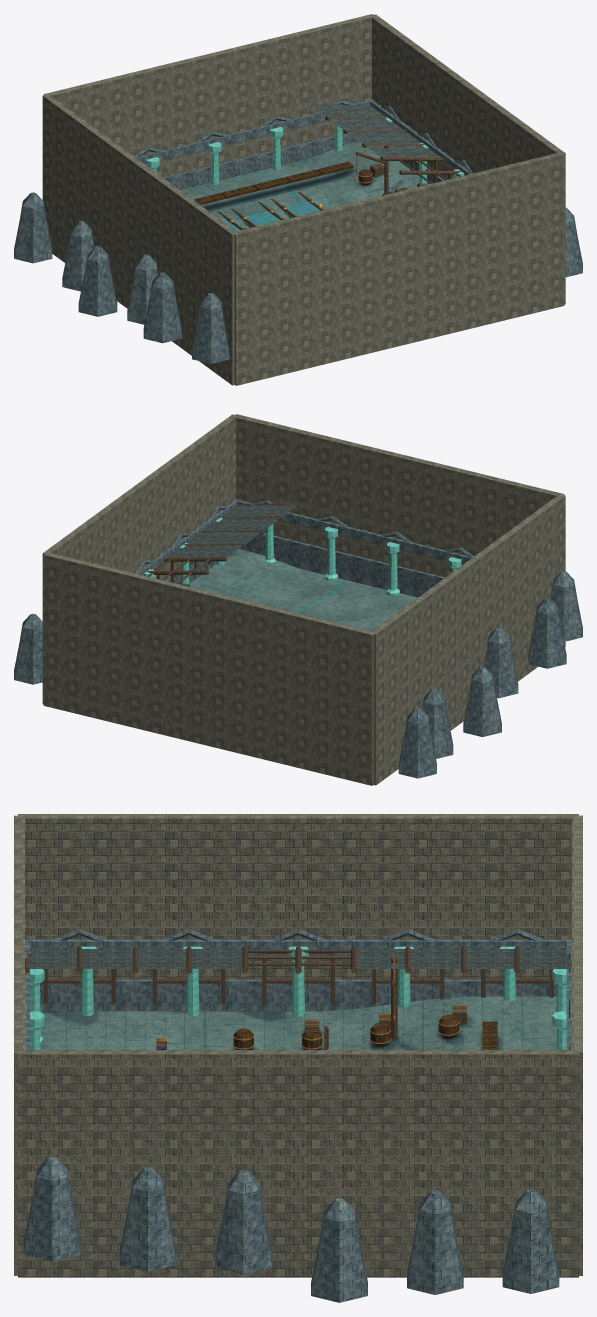
Rendered from ChainDock-3113f276cd4c.glb.
3 renders of one model, top to bottom at view 1: azimuth 30°, elevation 25°; view 2: azimuth 150°, elevation 25°; view 3: azimuth 270°, elevation 25°, orthographic. The views are drawn at different scales.
Visible parts, largest first — view 1: C_Solids, Horizon, Rim, Terrain, Set; view 2: C_Solids, Rim, Horizon, Terrain; view 3: C_Solids, Rim, Horizon, Terrain, Set.
Boxes of the visible parts, bbox=[...] form: C_Solids: bbox=[42, 14, 565, 385]; Horizon: bbox=[14, 192, 582, 363]; Rim: bbox=[134, 99, 472, 189]; Terrain: bbox=[180, 141, 418, 228]; Set: bbox=[186, 144, 408, 231]; C_Solids: bbox=[42, 414, 565, 785]; Rim: bbox=[135, 499, 473, 597]; Horizon: bbox=[14, 571, 582, 778]; Terrain: bbox=[189, 549, 417, 631]; C_Solids: bbox=[14, 814, 582, 1277]; Rim: bbox=[25, 929, 571, 1049]; Horizon: bbox=[24, 1002, 559, 1302]; Terrain: bbox=[40, 996, 556, 1049]; Set: bbox=[156, 957, 497, 1049].
Size of the model in its own units: 52.8 by 18 by 41.6.
Materials: 20 (20 with a texture image).
